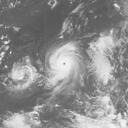cyclone: (44, 42, 84, 84)
